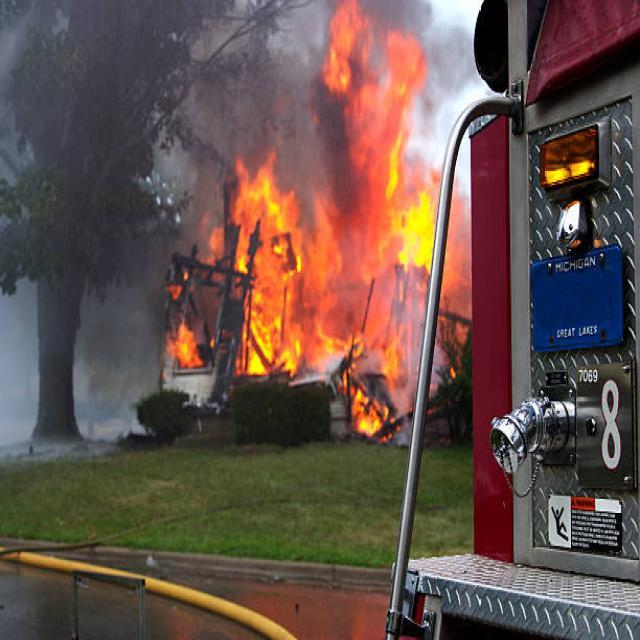Fire: (174, 153, 356, 379), (314, 8, 432, 266), (285, 245, 401, 430)
Smoke: (0, 0, 181, 439), (182, 12, 304, 246), (416, 1, 474, 103)
